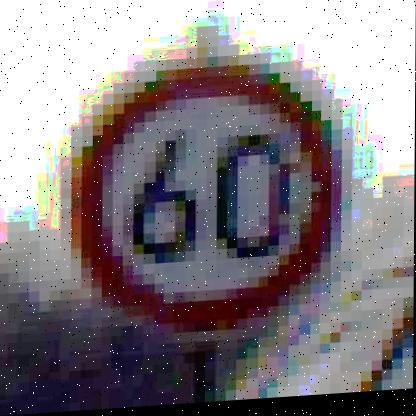Speed Limit -60-: (55, 46, 357, 350)
